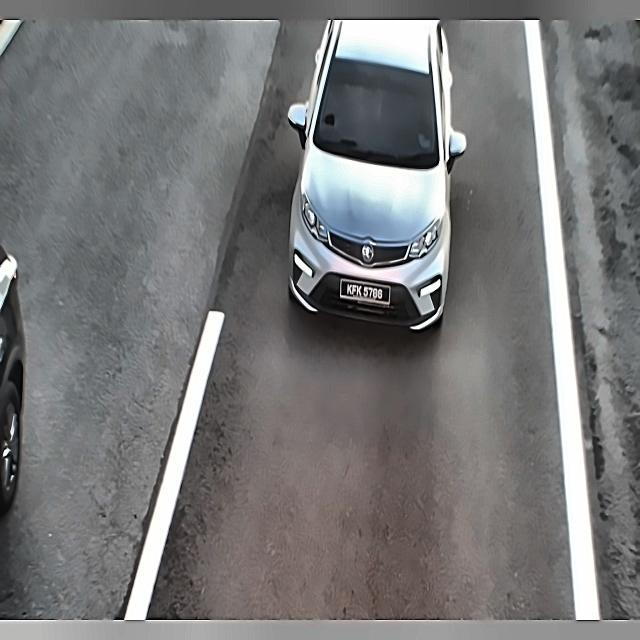car: (337, 274, 397, 313)
